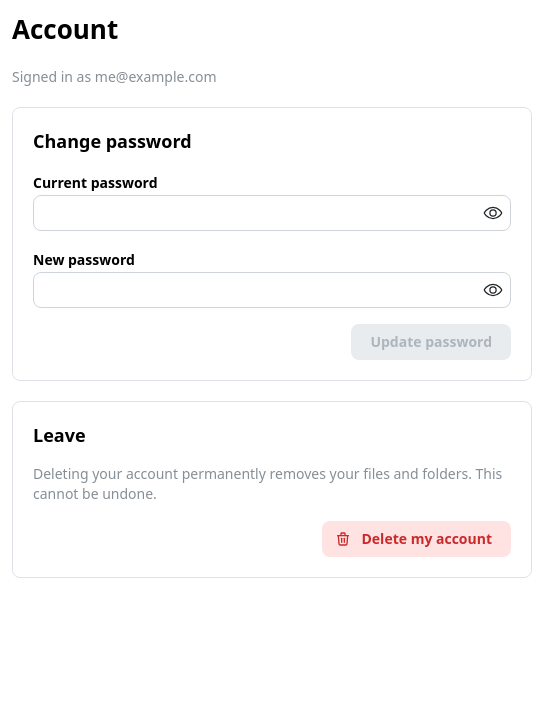
Test: AccountPage › shows an error when the password change fails
Type "wrong" into the password field labelled "Current password" at [272, 213], box [34,196,510,230]
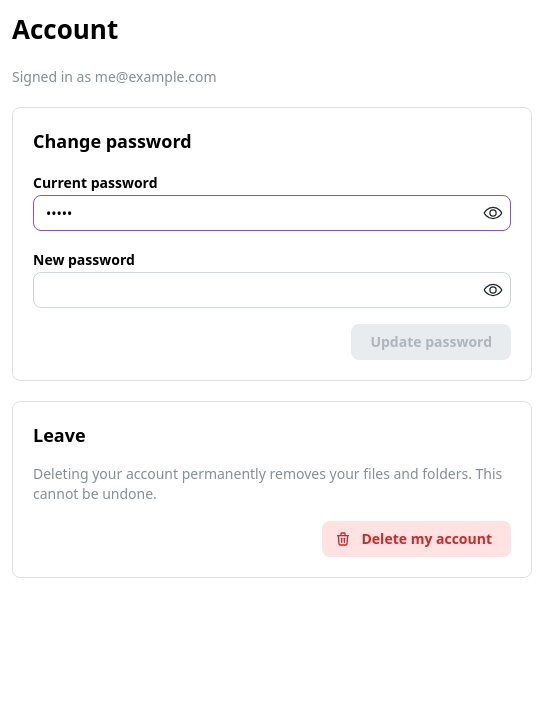
Type "newpass123" into the password field labelled "New password" at [272, 290], box [34,273,510,307]
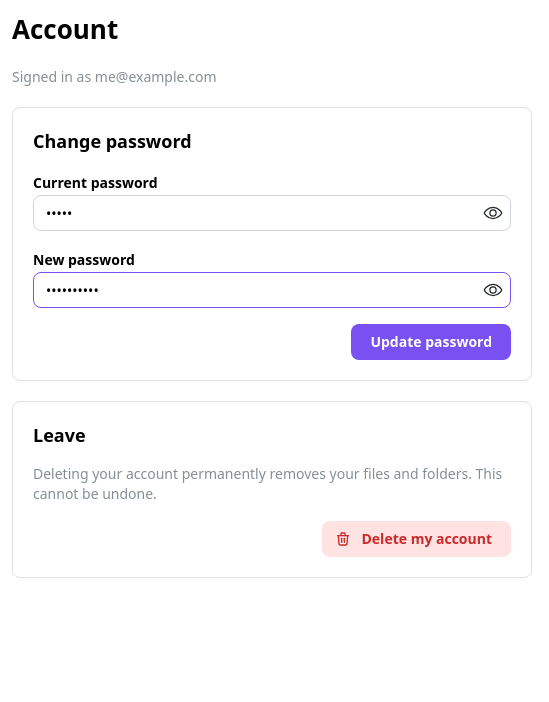
Click the button "Update password" at [431, 342], box [351,324,511,360]
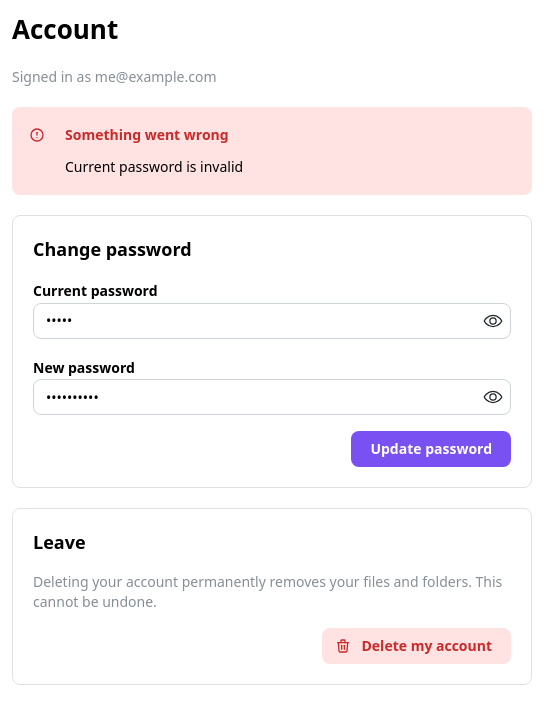
Now the text "Current password is invalid" is shown, box [65,157,243,176]
